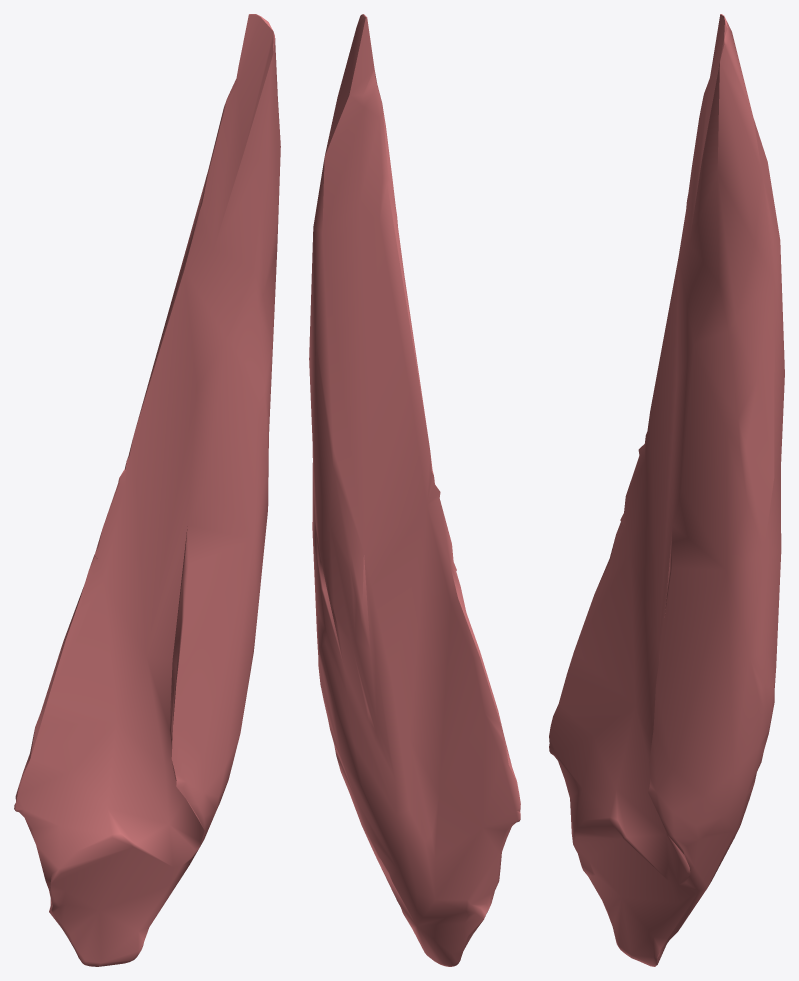
3 renders of one model, left to right at view 1: azimuth 30°, elevation 25°; view 2: azimuth 150°, elevation 25°; view 3: azimuth 330°, elevation 25°, orthographic. The views are drawn at different scales.
Visible parts, largest first — view 1: FJ1480; view 2: FJ1480; view 3: FJ1480.
Part boxes in pixels (bbox=[...]): FJ1480: bbox=[14, 14, 280, 966]; FJ1480: bbox=[309, 14, 520, 966]; FJ1480: bbox=[549, 14, 784, 966].
Bounding box in the file's own units: 0.0593 × 0.2255 × 0.0254.
